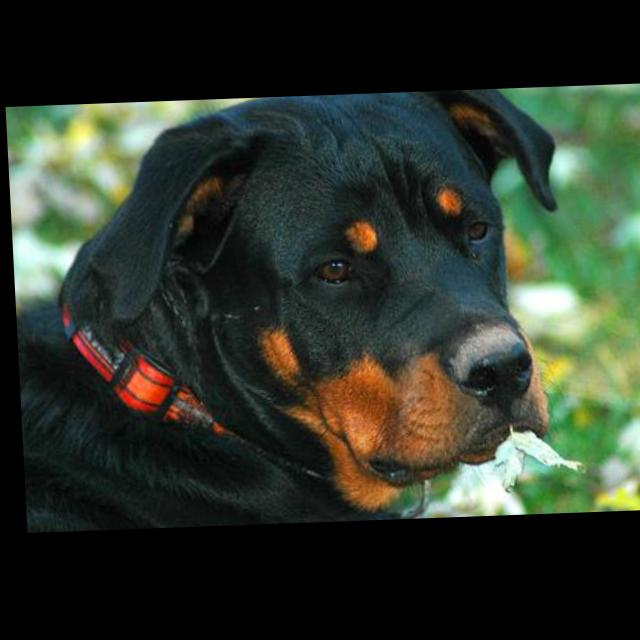rottweiler: (6, 92, 572, 534)
